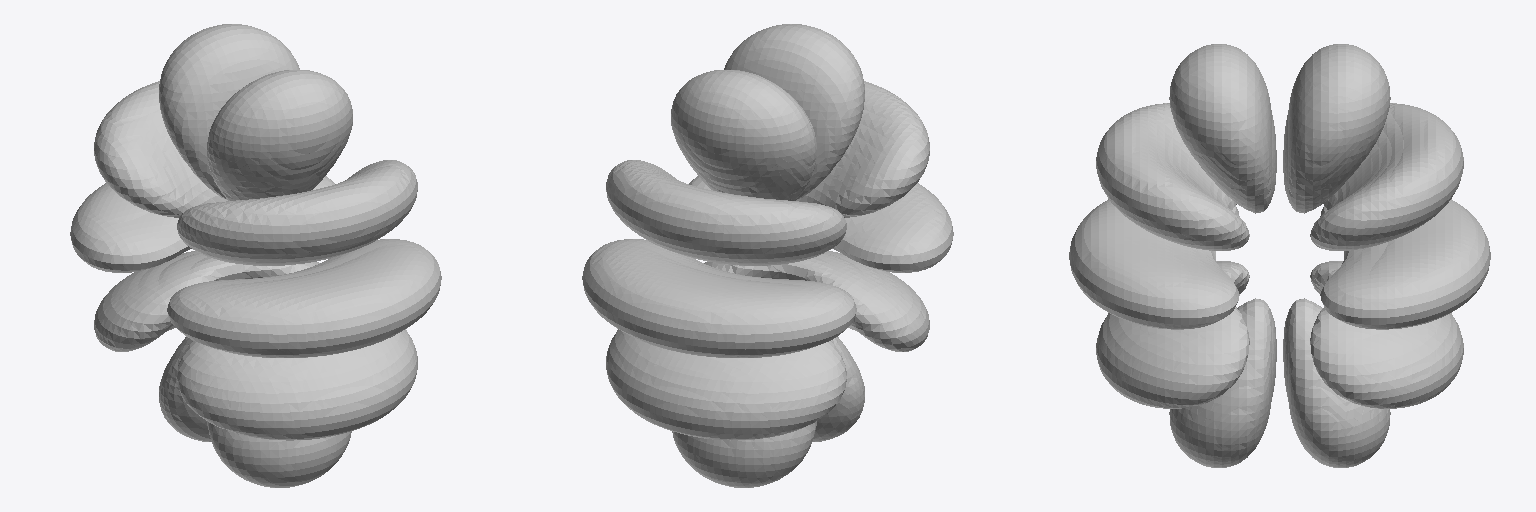
The model's file is orb_n=6_ l=5 _m=-1.obj.
The picture shows the model from 3 angles: view 1: azimuth 30°, elevation 25°; view 2: azimuth 150°, elevation 25°; view 3: azimuth 270°, elevation 25°; orthographic projection.
Visible parts, largest first — view 1: orb_n=6__l=5__m=-1; view 2: orb_n=6__l=5__m=-1; view 3: orb_n=6__l=5__m=-1.
Part boxes in pixels (x1,y1,x2,y2): orb_n=6__l=5__m=-1: (70,24,441,487); orb_n=6__l=5__m=-1: (582,24,953,487); orb_n=6__l=5__m=-1: (1069,44,1490,467).
Bounding box in the file's own units: 85.93 × 131 × 123.